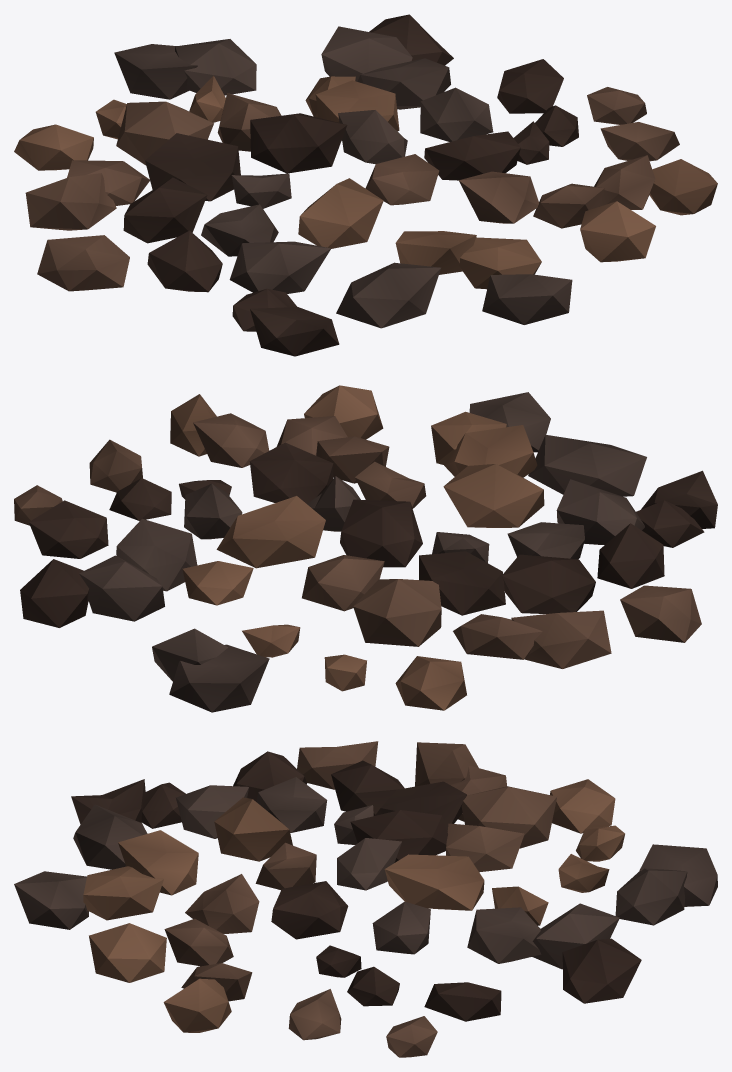
Rendered from compost.glb.
3 renders of one model, top to bottom at view 1: azimuth 30°, elevation 25°; view 2: azimuth 150°, elevation 25°; view 3: azimuth 270°, elevation 25°, orthographic. The views are drawn at different scales.
Visible parts, largest first — view 1: compost; view 2: compost; view 3: compost.
Part boxes in pixels (left/top/right/bottom): compost: left=14, top=14, right=717, bottom=356; compost: left=14, top=385, right=717, bottom=712; compost: left=14, top=741, right=717, bottom=1057.
Size of the model in its own units: 0.1879 by 0.0279 by 0.1894.
